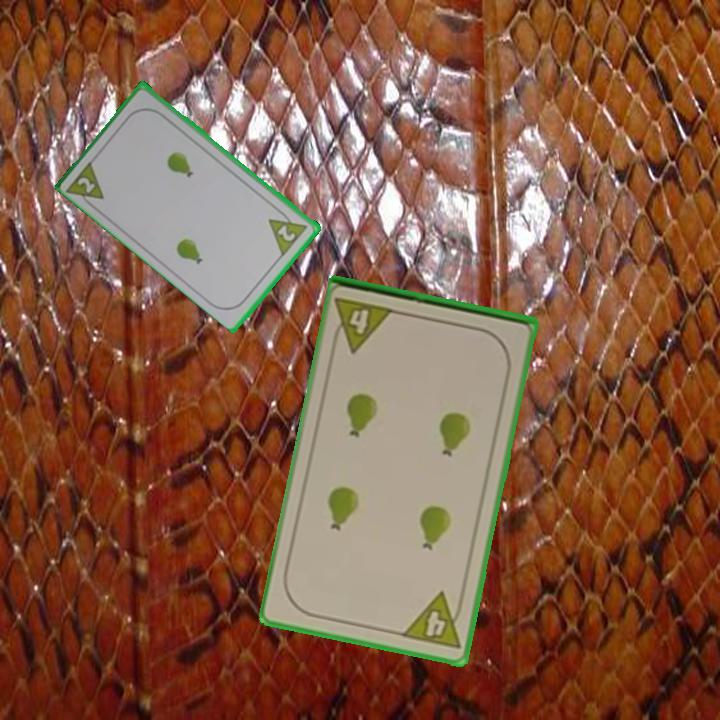2p: (64, 156, 108, 213), (265, 205, 311, 258)
4p: (398, 588, 468, 652), (328, 294, 398, 356)
